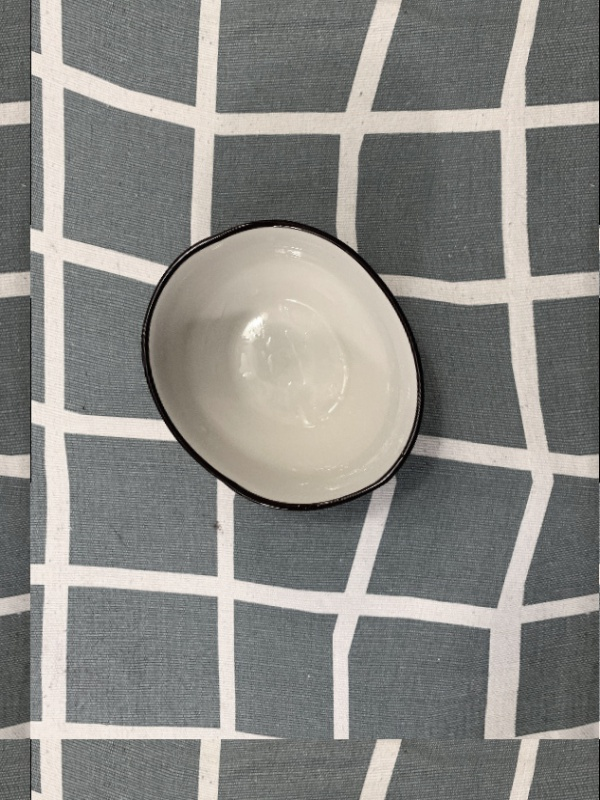bowl_small: (135, 193, 439, 526)
